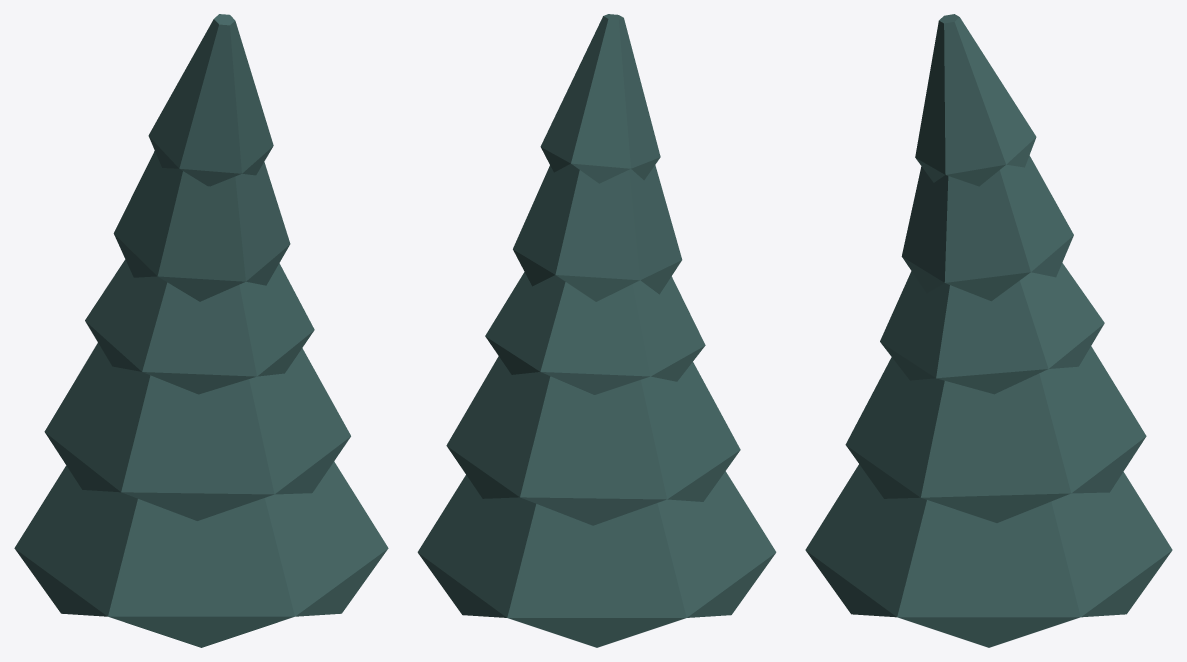
File: naturePack_087.fbx
3 views of the same model, side by side, from view 1: azimuth 30°, elevation 25°; view 2: azimuth 150°, elevation 25°; view 3: azimuth 270°, elevation 25° (orthographic). The views are drawn at different scales.
Parts seen in each view (by area): view 1: Mesh1_Group1 Model; view 2: Mesh1_Group1 Model; view 3: Mesh1_Group1 Model.
Part boxes in pixels (x1,y1,x2,y2): Mesh1_Group1 Model: [14, 14, 388, 647]; Mesh1_Group1 Model: [417, 14, 776, 647]; Mesh1_Group1 Model: [805, 14, 1172, 647].
Bounding box in the file's own units: 1.92 × 3.77 × 2.22.
